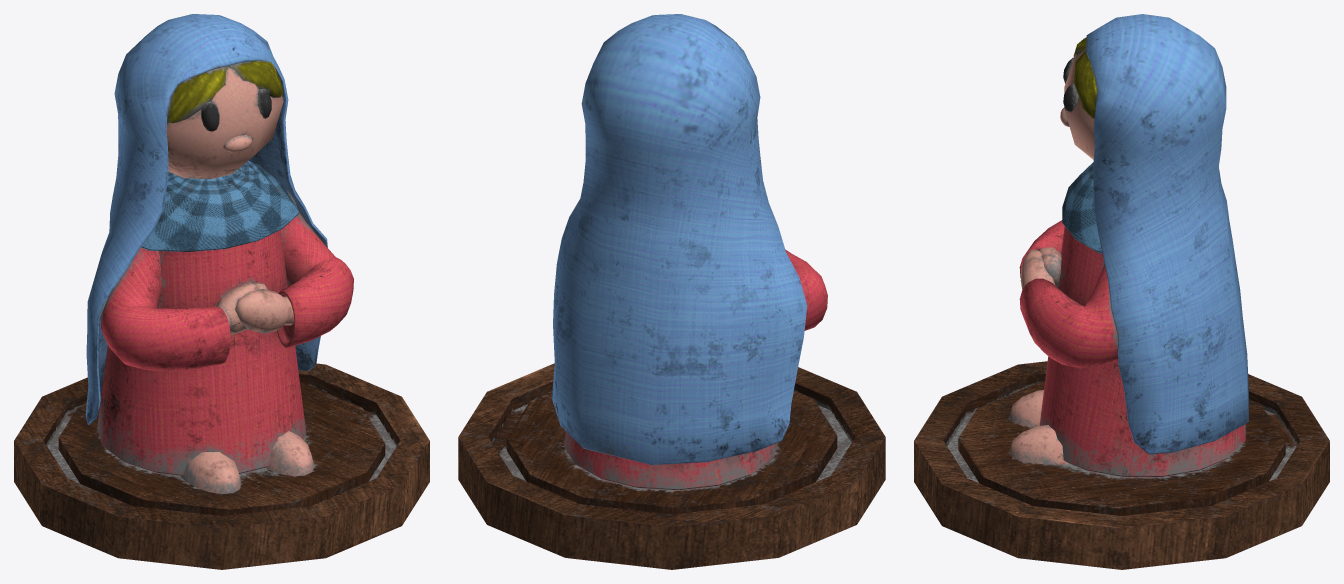
File: Maria.fbx
3 renders of one model, left to right at view 1: azimuth 30°, elevation 25°; view 2: azimuth 150°, elevation 25°; view 3: azimuth 270°, elevation 25°, orthographic. The views are drawn at different scales.
Visible parts, largest first — view 1: Circle.009, Cylinder, Sphere, Cylinder.001, Cylinder.003, Sphere.001, Sphere.005, Sphere.004, Sphere.002, Sphere.003, Sphere.008; view 2: Sphere, Circle.009, Cylinder, Cylinder.001; view 3: Sphere, Circle.009, Cylinder, Cylinder.001, Sphere.005, Cylinder.003, Sphere.001, Sphere.004, Sphere.002, Sphere.003.
Part boxes in pixels (x1=…): Circle.009: x1=14, y1=363, x2=429, y2=569; Cylinder: x1=97, y1=230, x2=306, y2=476; Sphere: x1=85, y1=14, x2=327, y2=424; Cylinder.001: x1=101, y1=212, x2=353, y2=371; Cylinder.003: x1=141, y1=160, x2=298, y2=251; Sphere.001: x1=166, y1=67, x2=283, y2=179; Sphere.005: x1=180, y1=431, x2=314, y2=493; Sphere.004: x1=167, y1=60, x2=283, y2=123; Sphere.002: x1=235, y1=289, x2=294, y2=333; Sphere.003: x1=216, y1=282, x2=268, y2=334; Sphere.008: x1=201, y1=88, x2=271, y2=131; Sphere: x1=552, y1=14, x2=807, y2=464; Circle.009: x1=458, y1=363, x2=885, y2=569; Cylinder: x1=564, y1=431, x2=777, y2=490; Cylinder.001: x1=785, y1=249, x2=827, y2=330; Sphere: x1=1086, y1=14, x2=1248, y2=454; Circle.009: x1=914, y1=361, x2=1329, y2=569; Cylinder: x1=1040, y1=226, x2=1245, y2=477; Cylinder.001: x1=1019, y1=220, x2=1118, y2=368; Sphere.005: x1=1009, y1=390, x2=1069, y2=464; Cylinder.003: x1=1062, y1=162, x2=1102, y2=253; Sphere.001: x1=1064, y1=49, x2=1094, y2=159; Sphere.004: x1=1073, y1=37, x2=1097, y2=118; Sphere.002: x1=1020, y1=249, x2=1055, y2=289; Sphere.003: x1=1038, y1=247, x2=1061, y2=286.
Bounding box in the file's own units: 302 × 364 × 302.
Materials: 1 (1 with a texture image).
